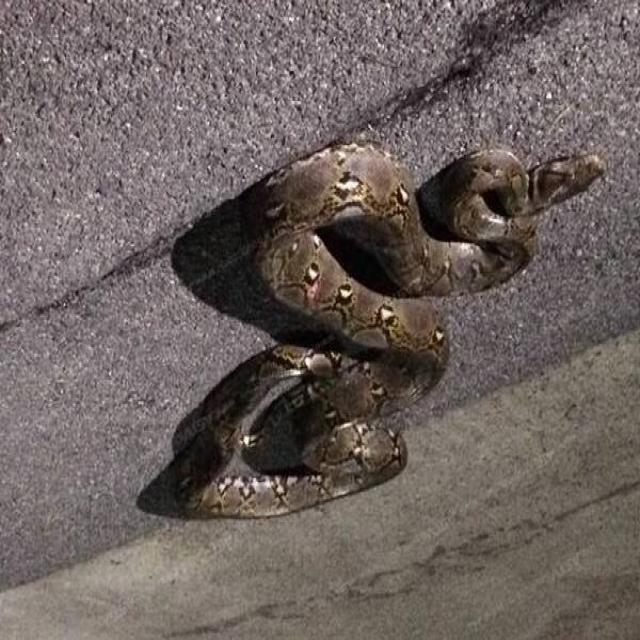Non-Venomous: (425, 90, 617, 308)
